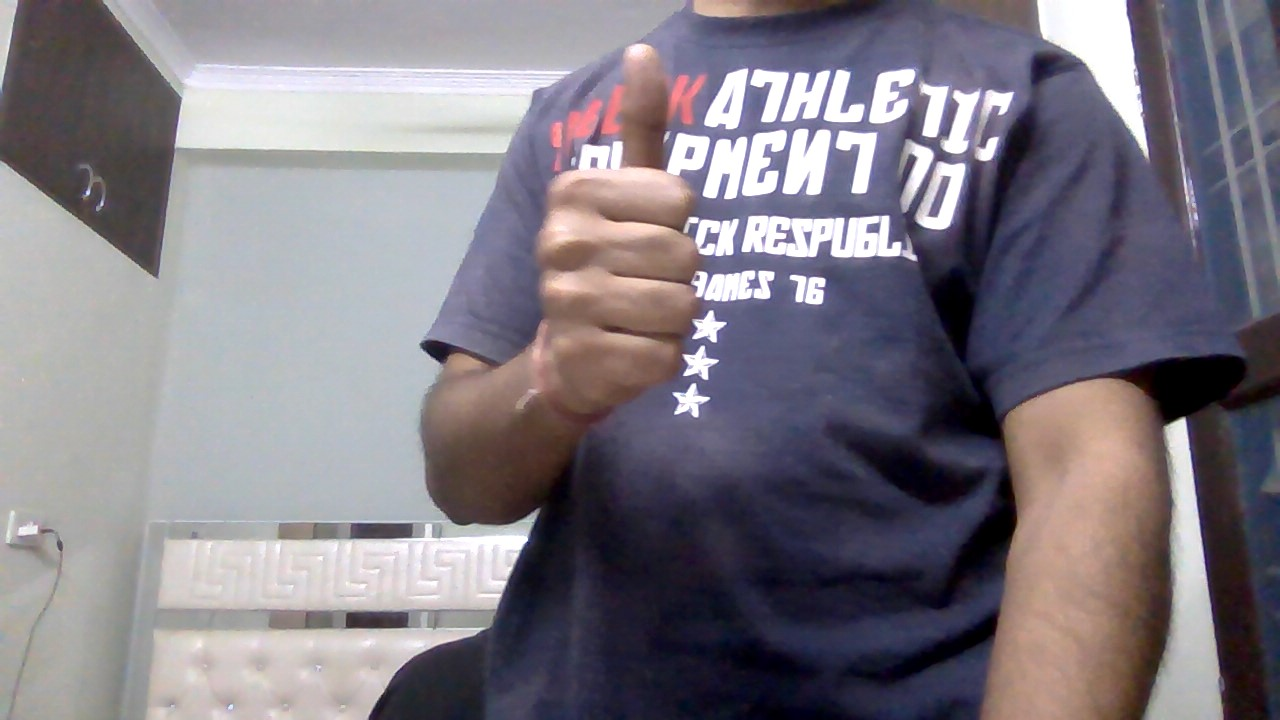Save: (524, 33, 715, 435)
